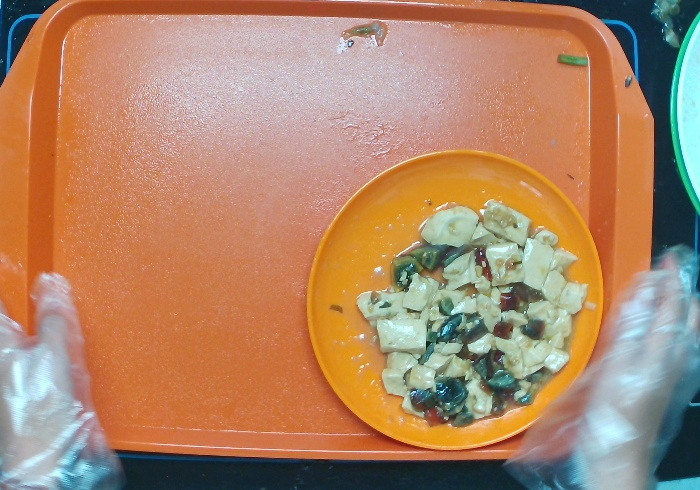HZYJPL-Ju_Huang_Yuan_Pan: (304, 147, 606, 453)
